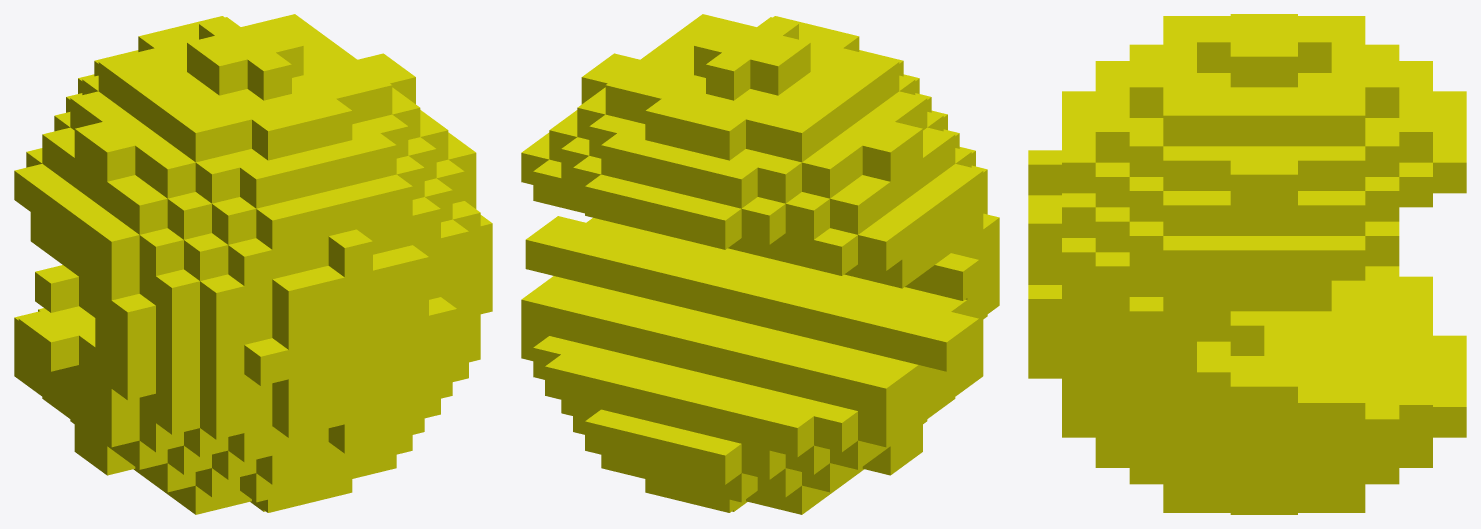
File: Pacman.fbx
3 renders of one model, left to right at view 1: azimuth 30°, elevation 25°; view 2: azimuth 150°, elevation 25°; view 3: azimuth 270°, elevation 25°, orthographic. The views are drawn at different scales.
Parts seen in each view (by area): view 1: Pixel_Pac_Man:Mesh; view 2: Pixel_Pac_Man:Mesh; view 3: Pixel_Pac_Man:Mesh.
Boxes of the visible parts, x1,y1,x2,y2 form: Pixel_Pac_Man:Mesh: [14, 14, 492, 514]; Pixel_Pac_Man:Mesh: [521, 14, 999, 514]; Pixel_Pac_Man:Mesh: [1028, 14, 1466, 514].
Bounding box in the file's own units: 11.81 × 11.81 × 10.24.
